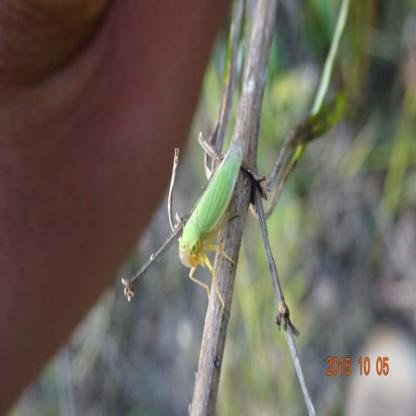Green-Leafhopper: (174, 142, 249, 314)
